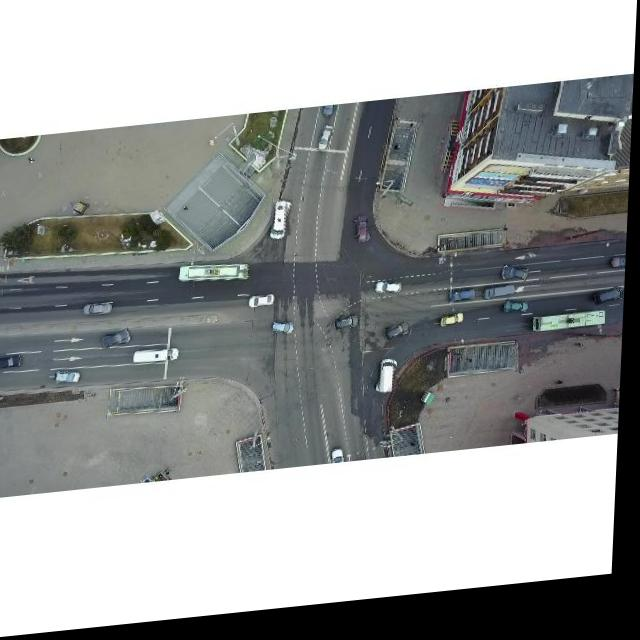vehicle: (376, 365, 404, 405), (270, 205, 296, 247), (136, 350, 182, 370), (352, 221, 377, 253), (104, 333, 135, 351), (596, 300, 626, 318), (486, 295, 518, 311), (386, 331, 414, 349), (504, 276, 533, 293), (86, 303, 115, 318), (58, 371, 85, 387), (273, 325, 298, 342), (506, 311, 532, 327), (378, 290, 405, 305), (337, 322, 362, 338), (0, 356, 27, 370), (451, 299, 478, 313), (320, 132, 334, 159), (251, 300, 278, 313), (443, 323, 467, 337)
